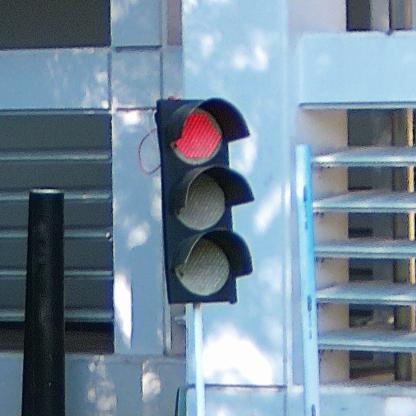red: (154, 99, 254, 307)
